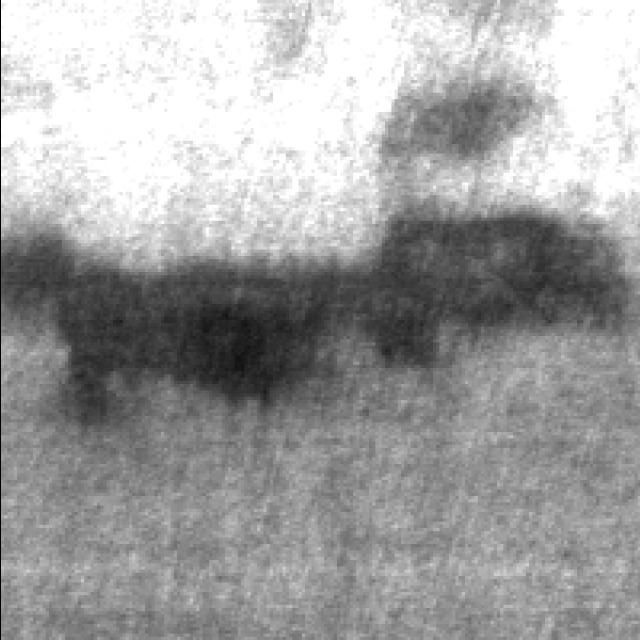patches: (11, 190, 634, 407), (398, 36, 550, 180)
